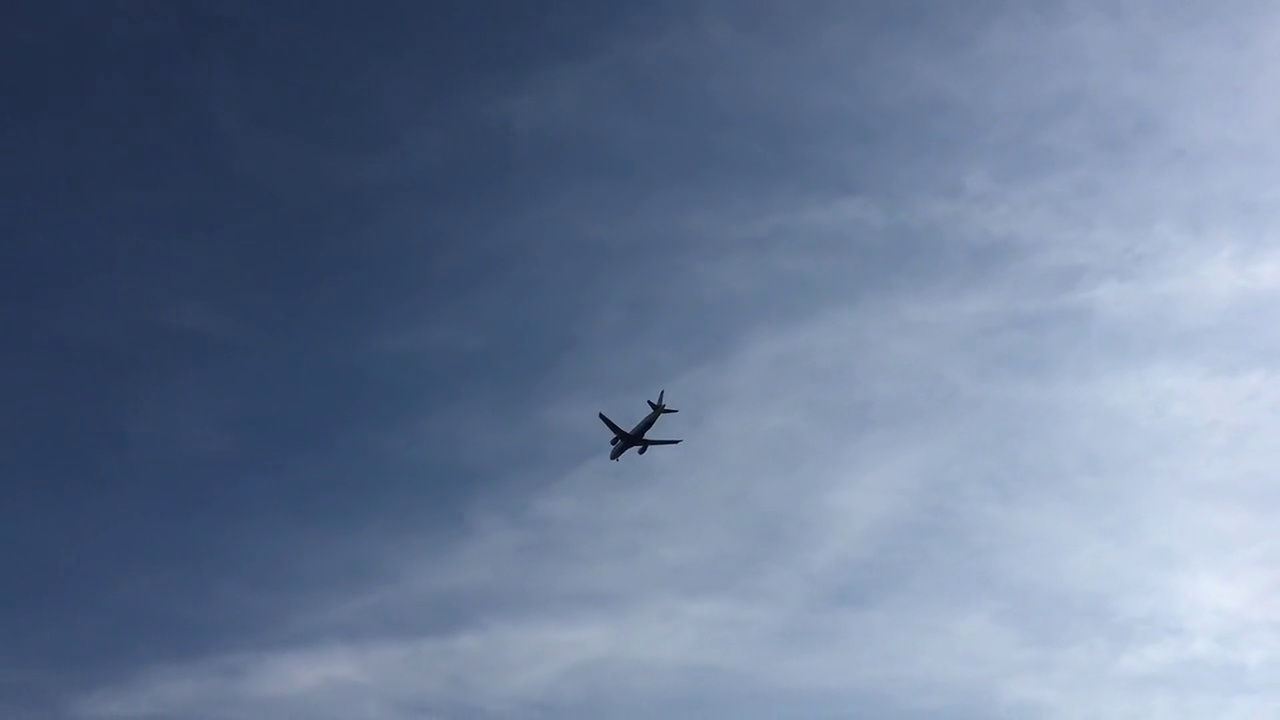plane: (598, 388, 682, 462)
